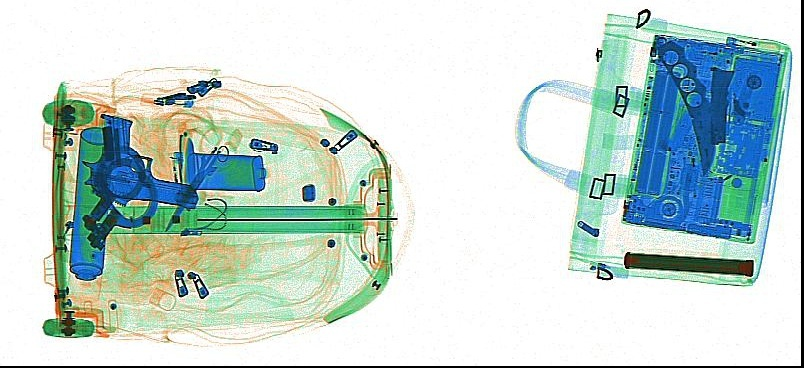handcuffs: (80, 143, 159, 252)
knife: (655, 39, 717, 177), (668, 90, 705, 153), (709, 66, 735, 146), (177, 128, 201, 198), (731, 70, 758, 126)
lighter: (724, 35, 780, 53), (167, 151, 187, 201), (139, 91, 195, 108)
pressure: (63, 125, 119, 304)
scissors: (163, 125, 239, 232)
zippooil: (184, 150, 266, 191)
